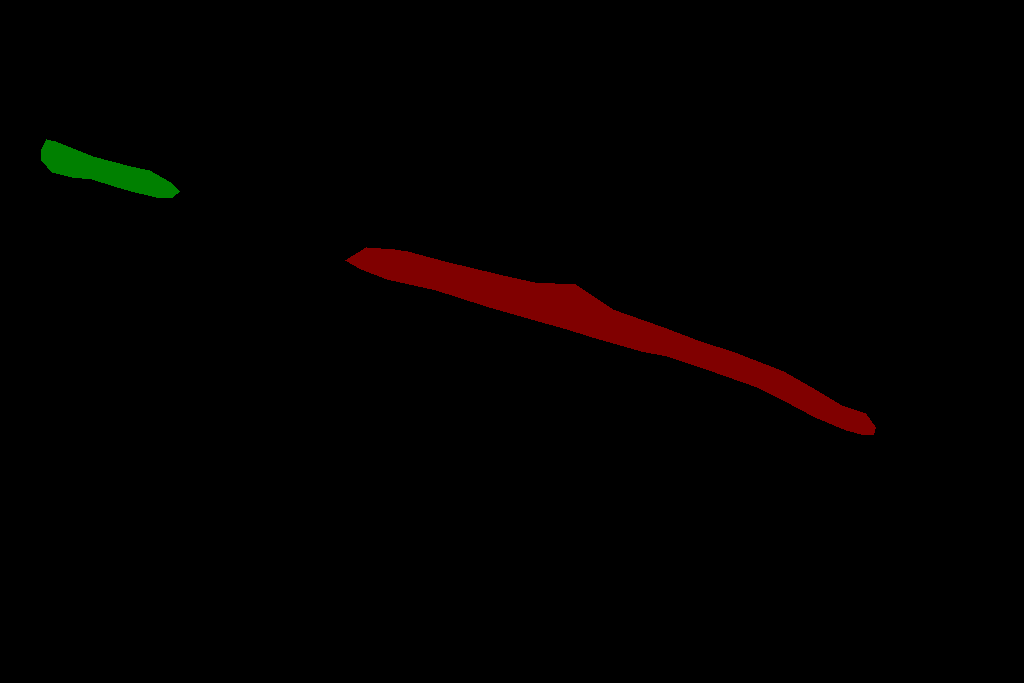fire: (345, 247, 875, 434), (41, 139, 179, 197)
